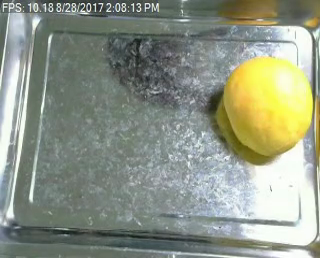Mango: (219, 56, 316, 159)
